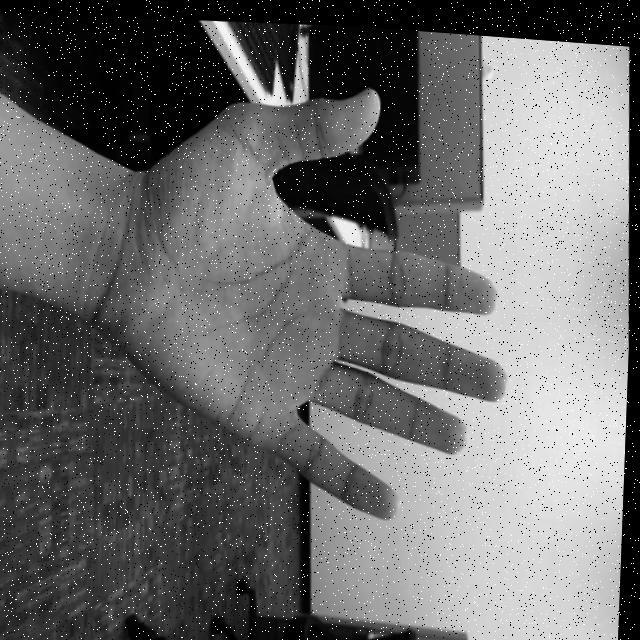no-gloves: (94, 56, 526, 532)
